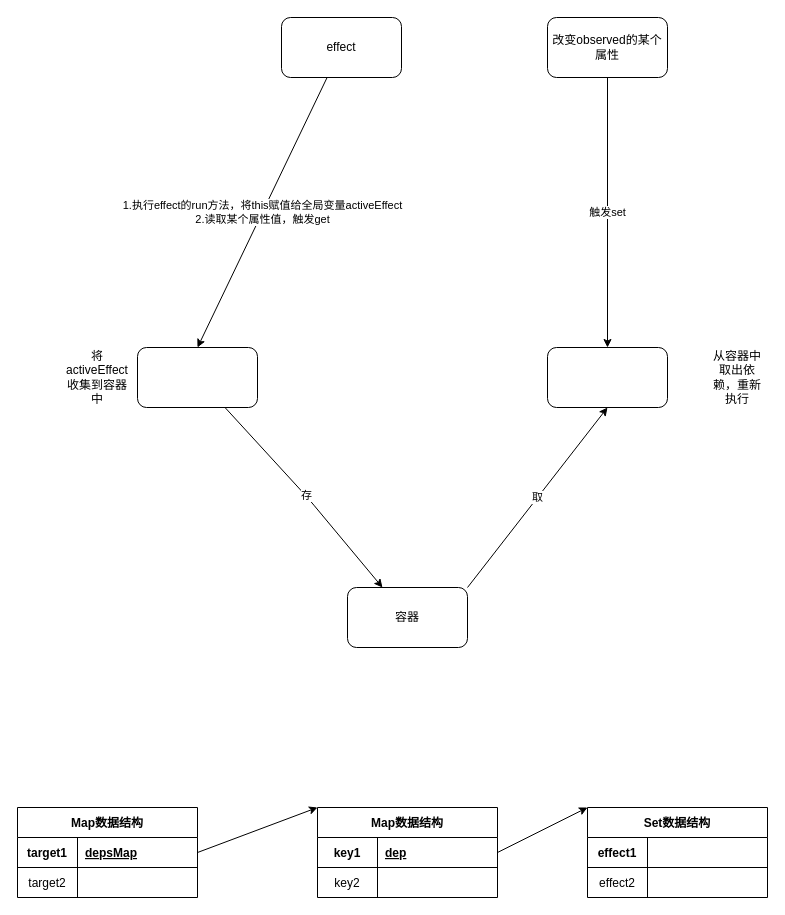
The diagram is 785 pixels wide and 915 high, and some of its shapes have lost their labels. Here are the shapes that lost their labels. From the top down, the centre of each, then its label:
point 197,377: track
point 607,377: trigger
